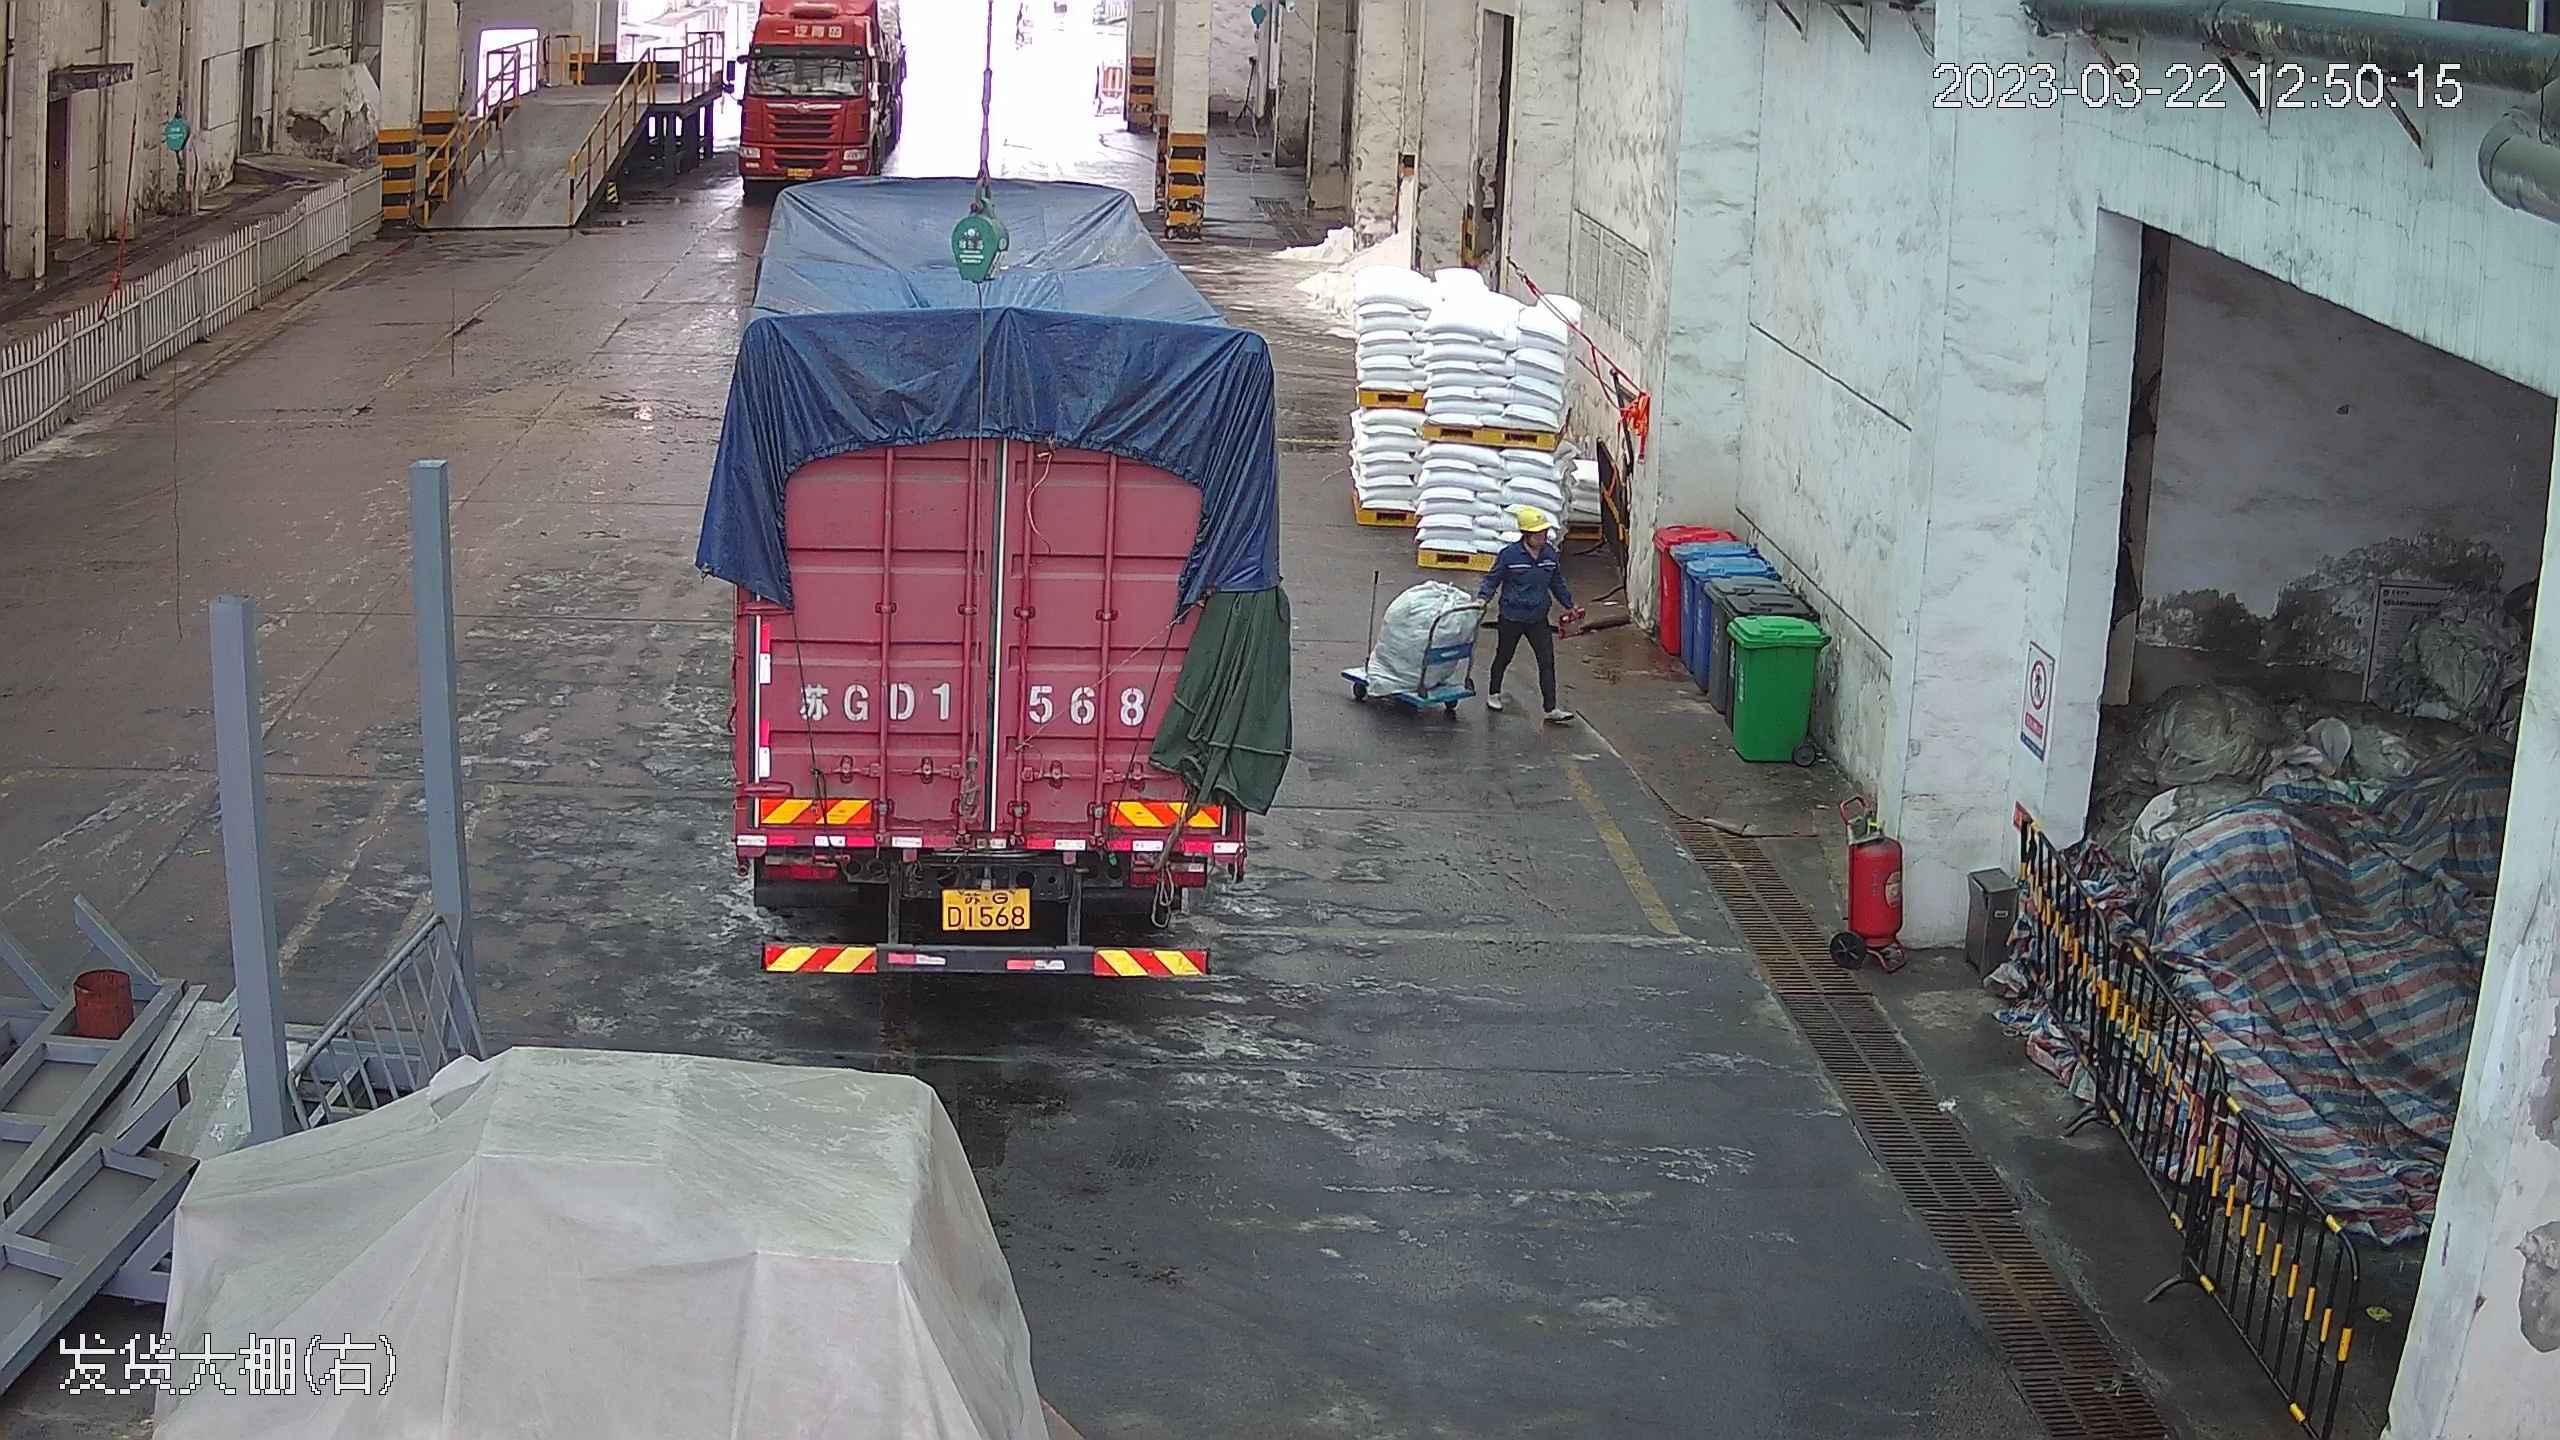head: (1495, 502, 1563, 579)
helmet: (1515, 502, 1552, 529)
people: (1480, 499, 1575, 731)
truck: (693, 101, 1290, 992), (721, 3, 905, 189)
